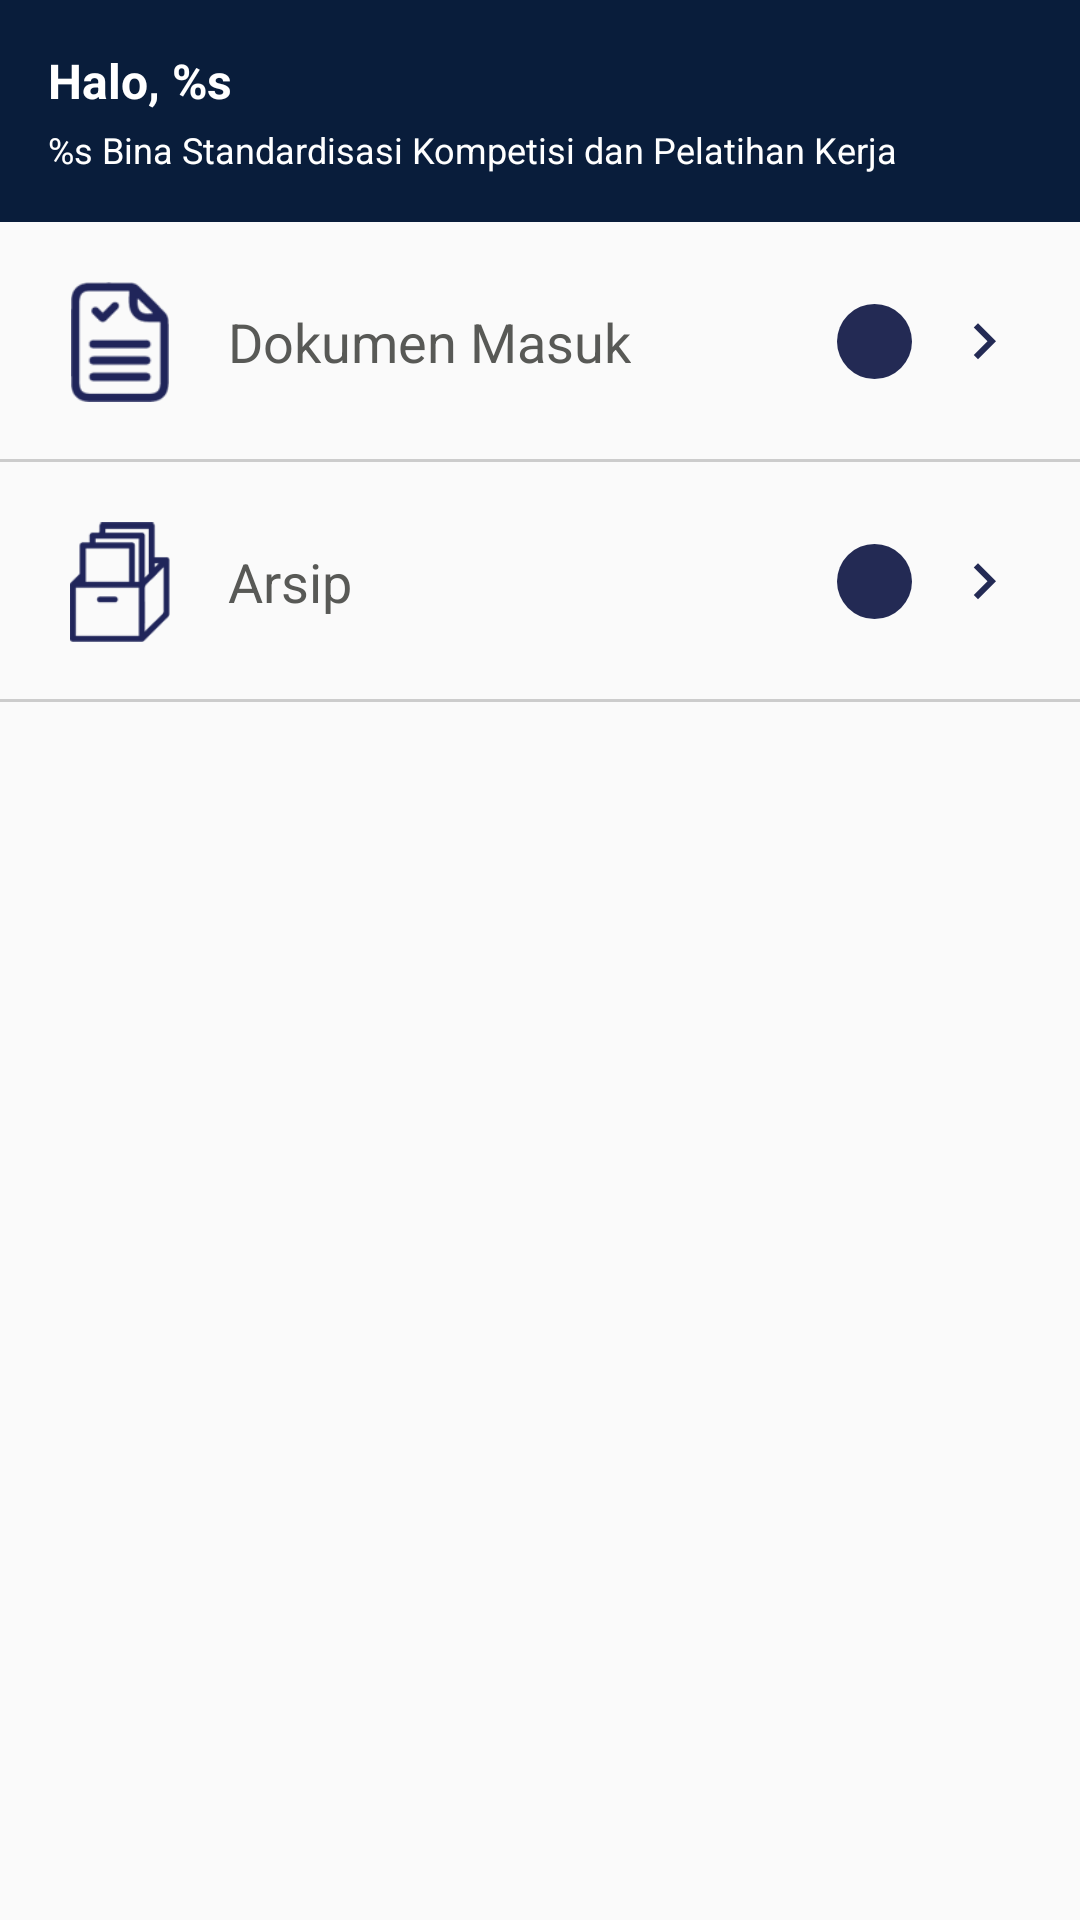

Icon bounding boxes for this 1080px×1920px phone screenshot, format [x1, y1, x2, y2]:
bitmap dokumen: [71, 282, 169, 402]
keyboard arrow right: [974, 323, 996, 359], [974, 563, 996, 599]
